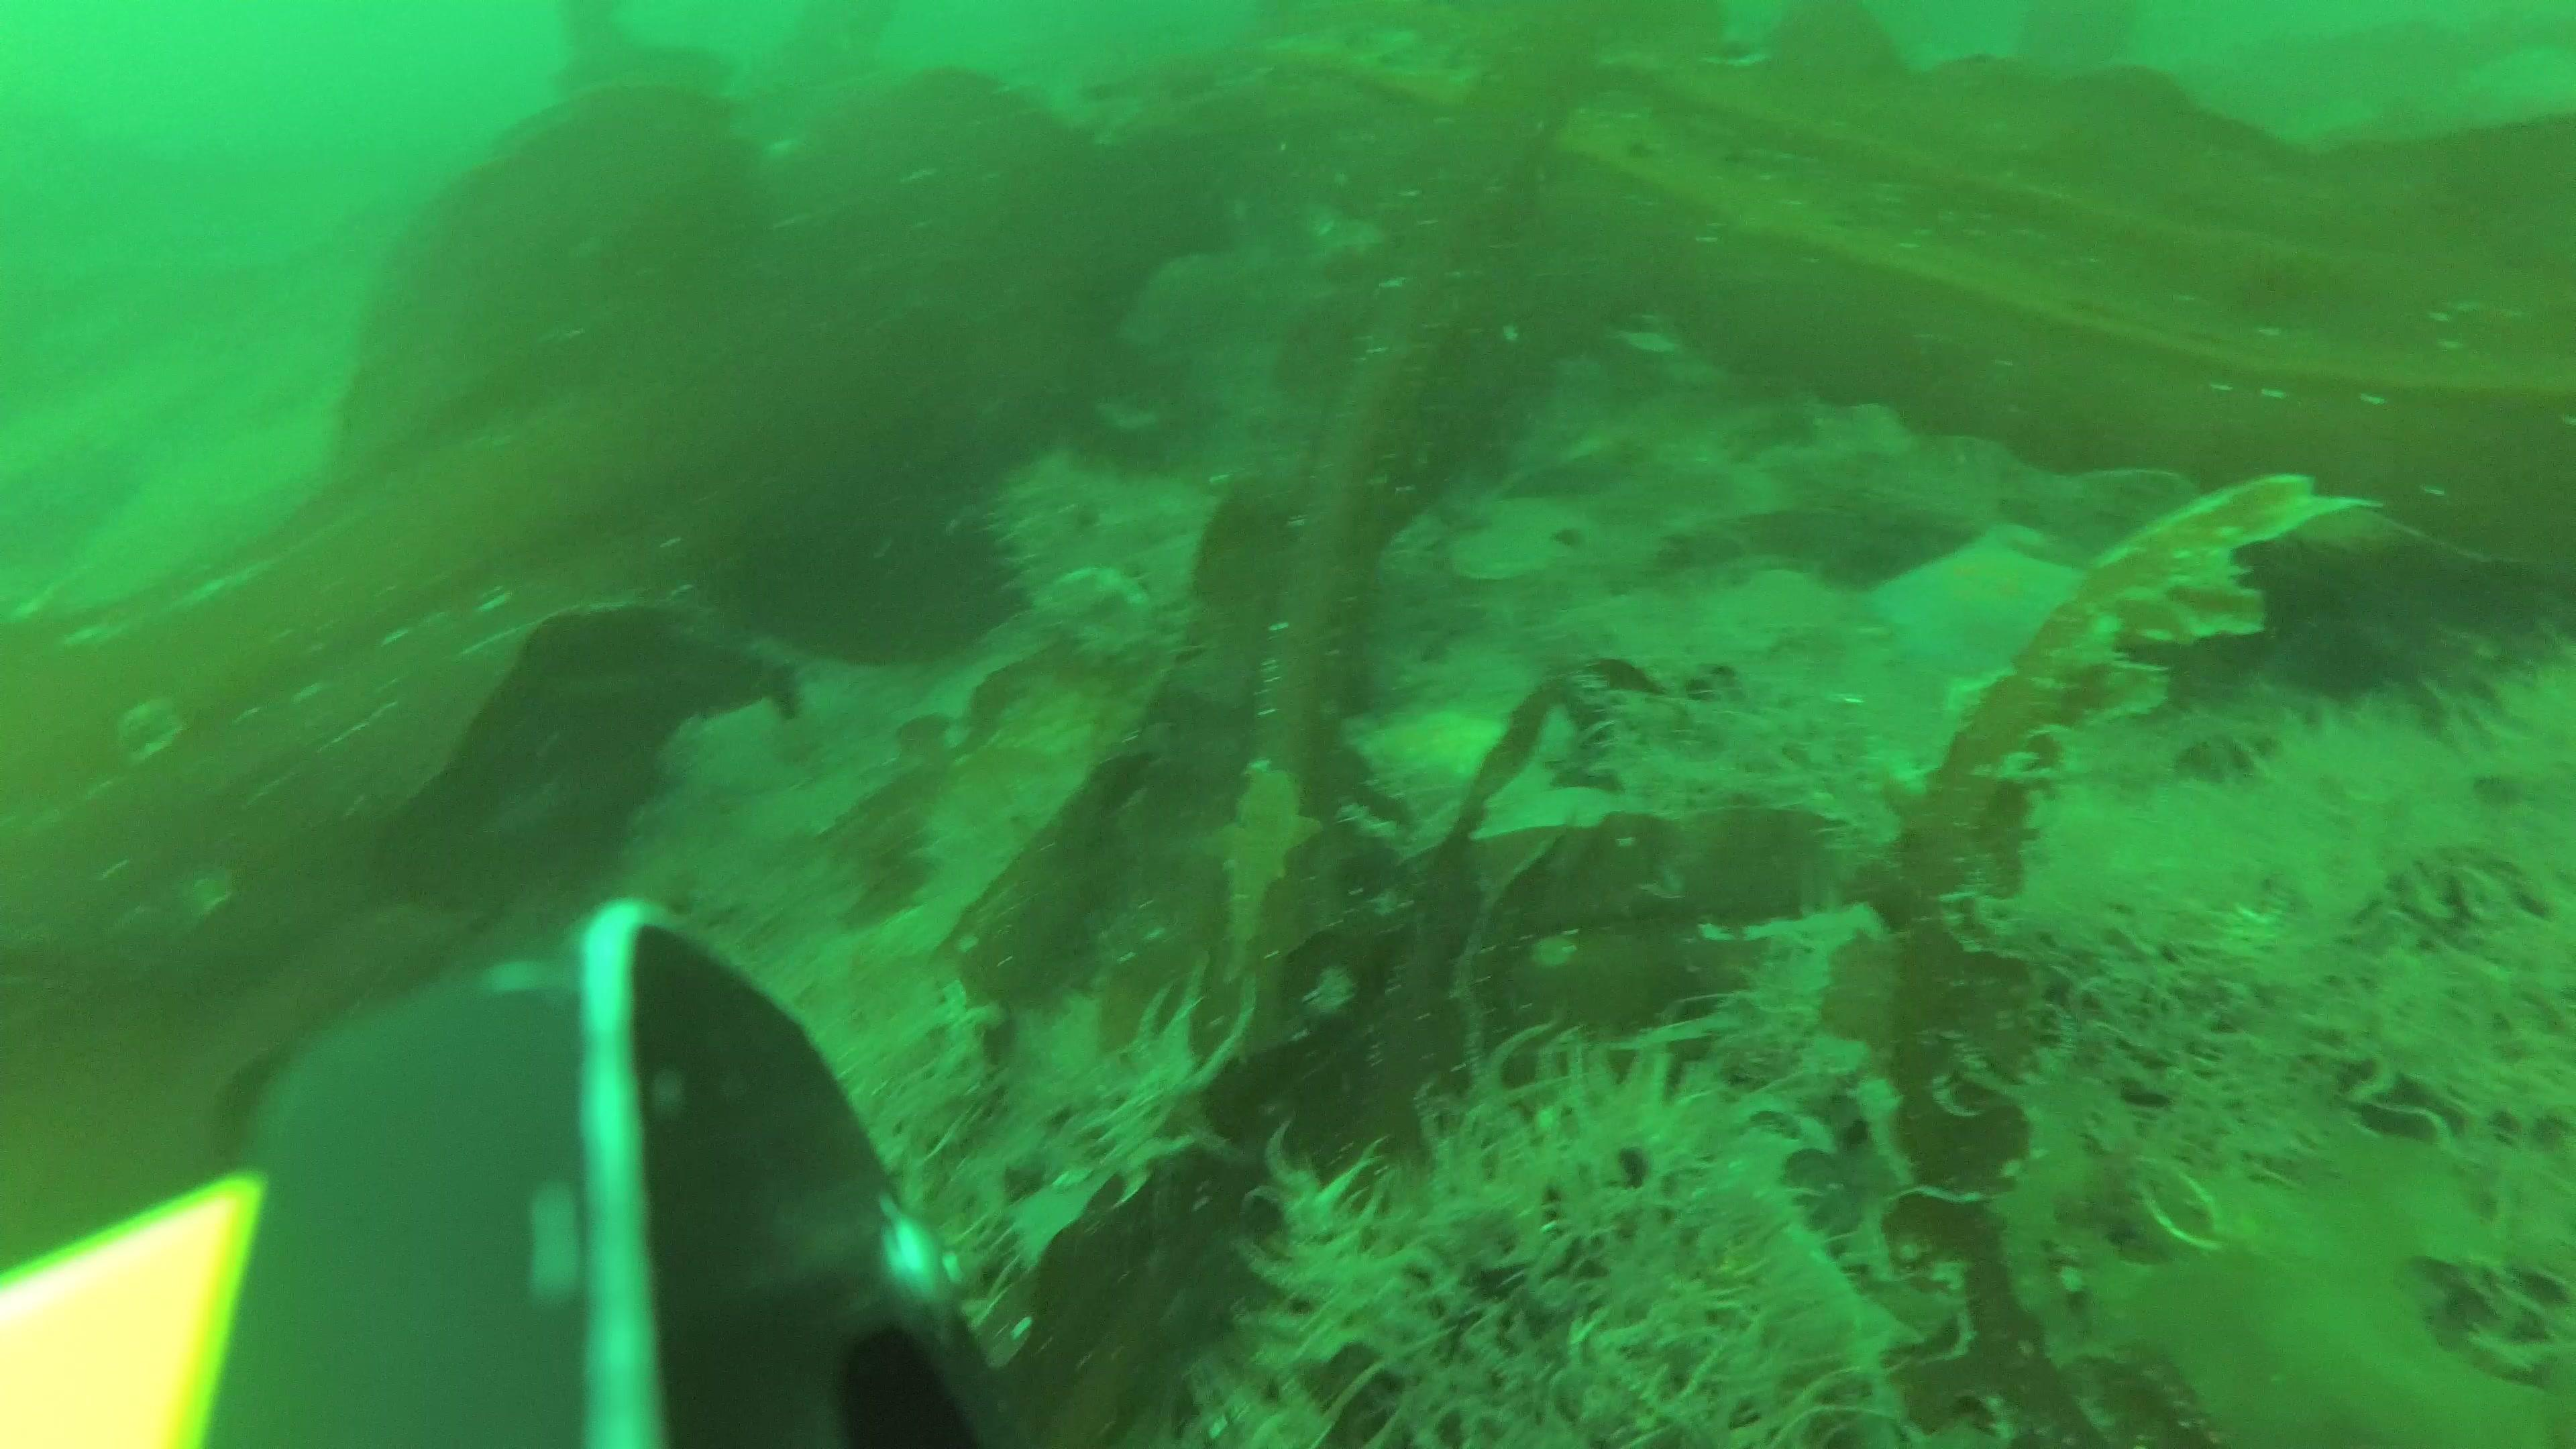starfish: (1875, 527, 2095, 676)
